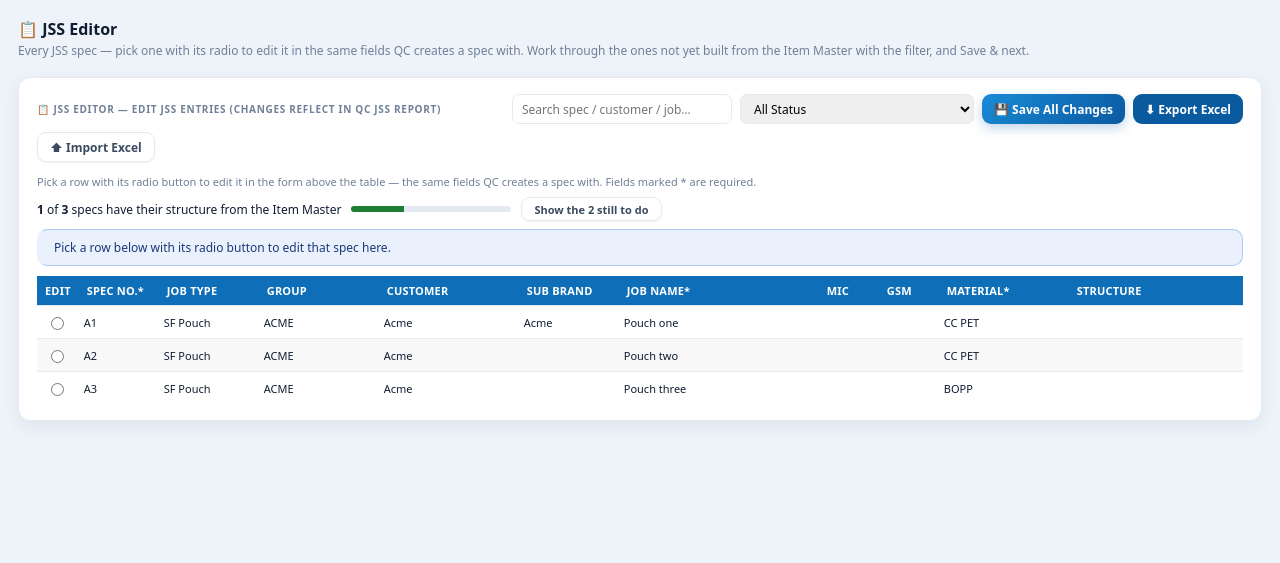
the JSS editor — radio, edit, save › syncs the open orders through the server and never writes the order book itself
This screenshot has width=1280, height=563.
Click the radio button named "Edit A1". click: click(58, 323)
box: [51, 317, 64, 330]
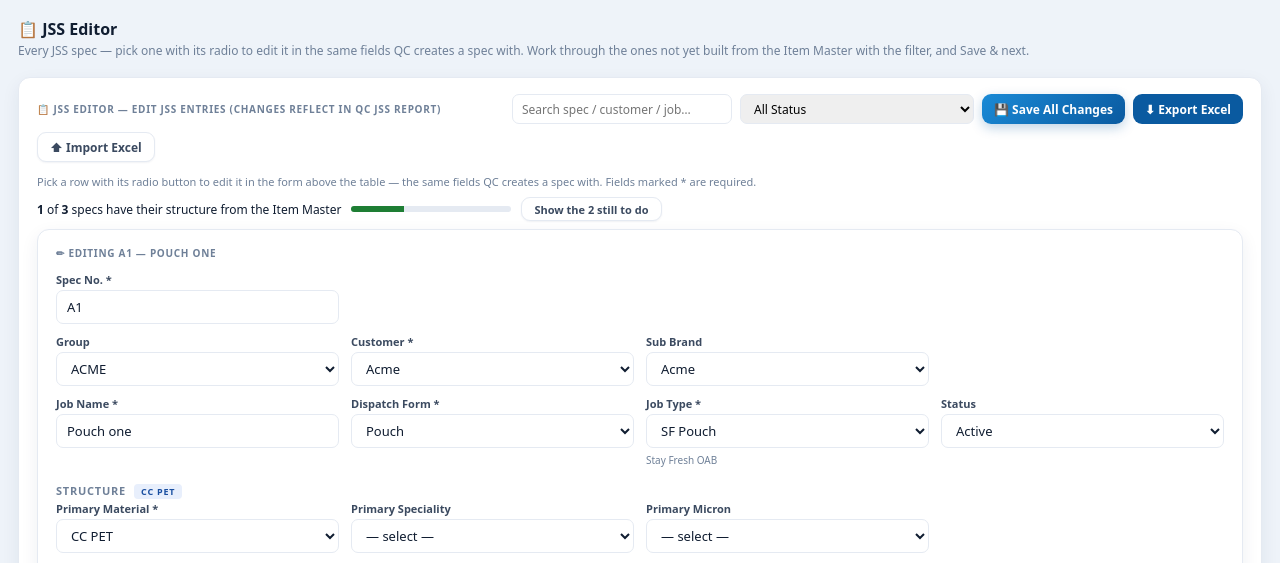
Select "Roll" in the dropdown named "Dispatch Form". click: (492, 431)
box: [351, 414, 634, 448]
(page scrolled)
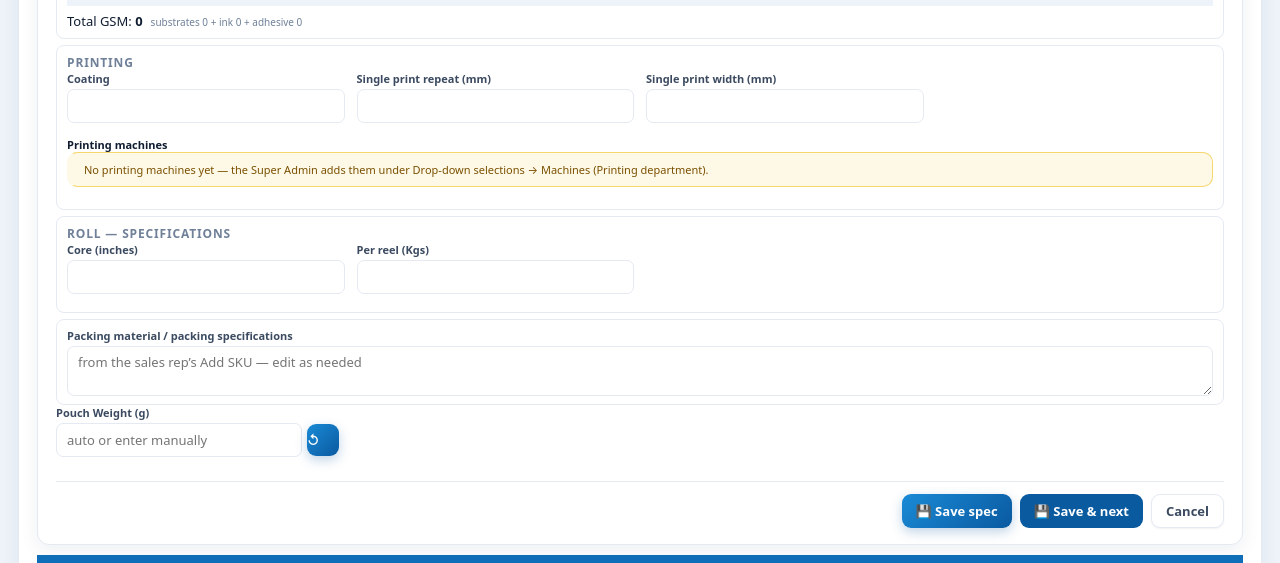
Click the button "💾 Save spec". click: click(957, 511)
box: [902, 494, 1012, 528]
(page scrolled)
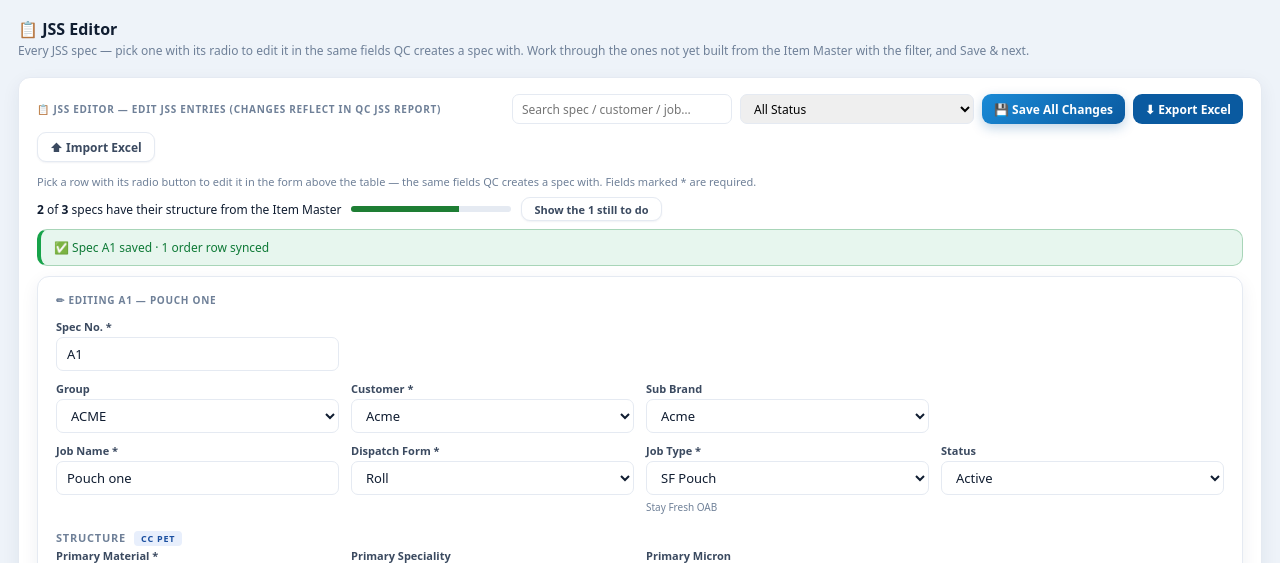
Expected: the text "✅ Spec A1 saved · 1 order row synced" is shown, [37, 229, 1243, 266]
